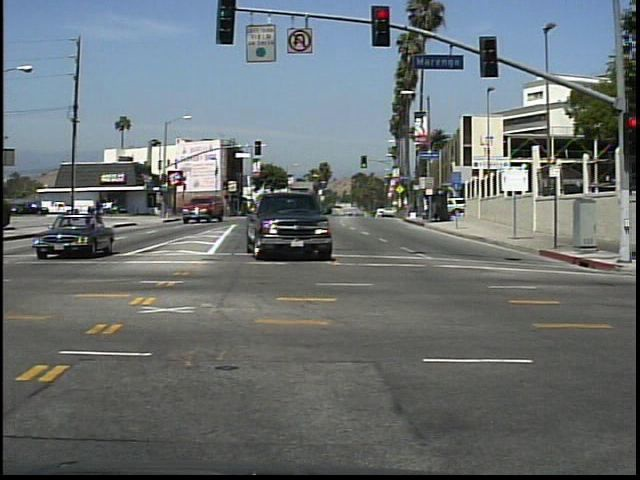person: (91, 196, 107, 224)
